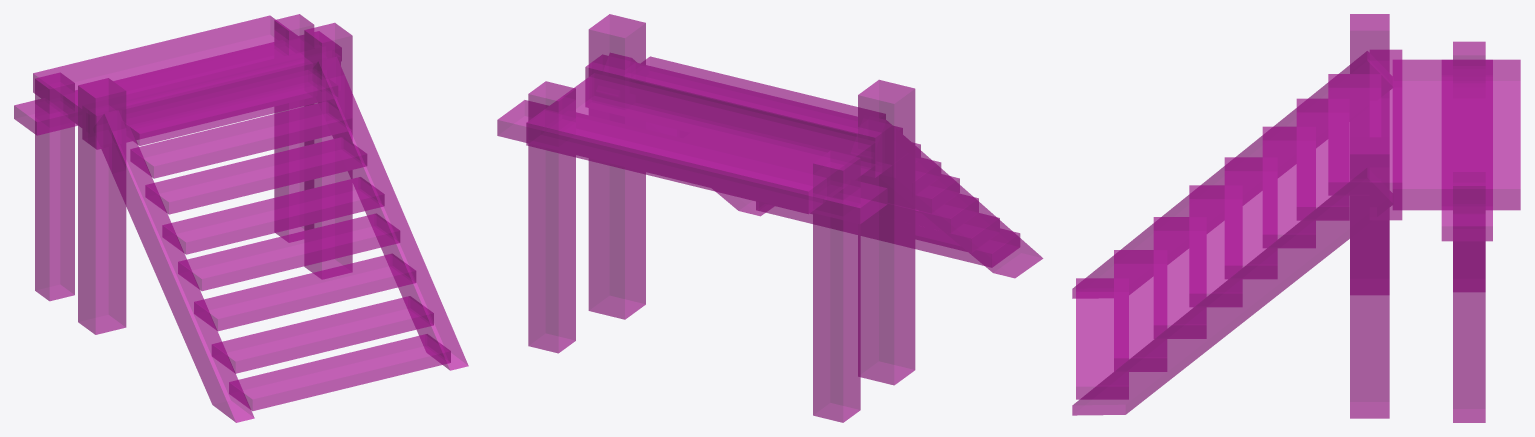
Rendered from SM_Veh_Wagon_Steps_02_Collision.fbx.
3 views of the same model, side by side, from view 1: azimuth 30°, elevation 25°; view 2: azimuth 150°, elevation 25°; view 3: azimuth 270°, elevation 25° (orthographic). The views are drawn at different scales.
Visible parts, largest first — view 1: SM_Veh_Wagon_Steps_02_Collision; view 2: SM_Veh_Wagon_Steps_02_Collision; view 3: SM_Veh_Wagon_Steps_02_Collision.
Part boxes in pixels (bbox=[...]): SM_Veh_Wagon_Steps_02_Collision: bbox=[14, 14, 468, 422]; SM_Veh_Wagon_Steps_02_Collision: bbox=[497, 14, 1042, 422]; SM_Veh_Wagon_Steps_02_Collision: bbox=[1072, 14, 1520, 422].
Size of the model in its own units: 190 by 142 by 217.
